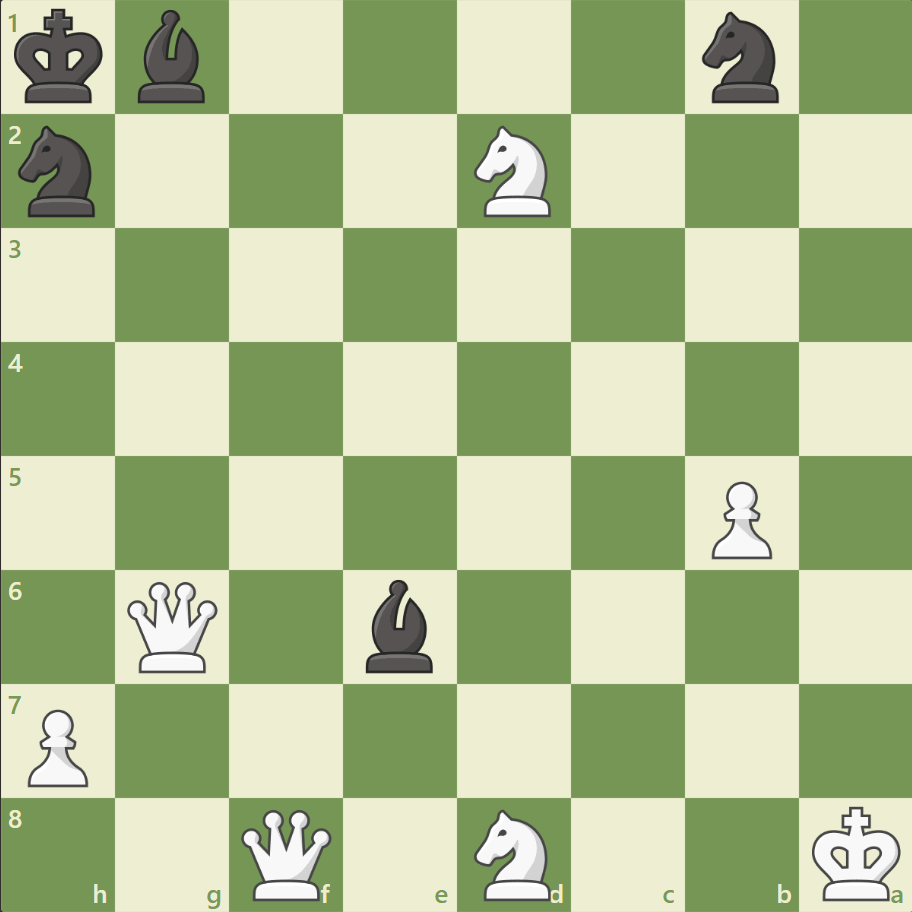K: (806, 798, 906, 906)
N: (465, 802, 562, 904), (465, 121, 562, 223)
P: (20, 700, 95, 791), (701, 473, 776, 564)
Q: (124, 576, 223, 676), (237, 804, 336, 903)
b: (131, 6, 215, 109), (358, 574, 442, 676)
k: (11, 4, 111, 112)
n: (692, 7, 789, 110), (11, 121, 108, 223)
